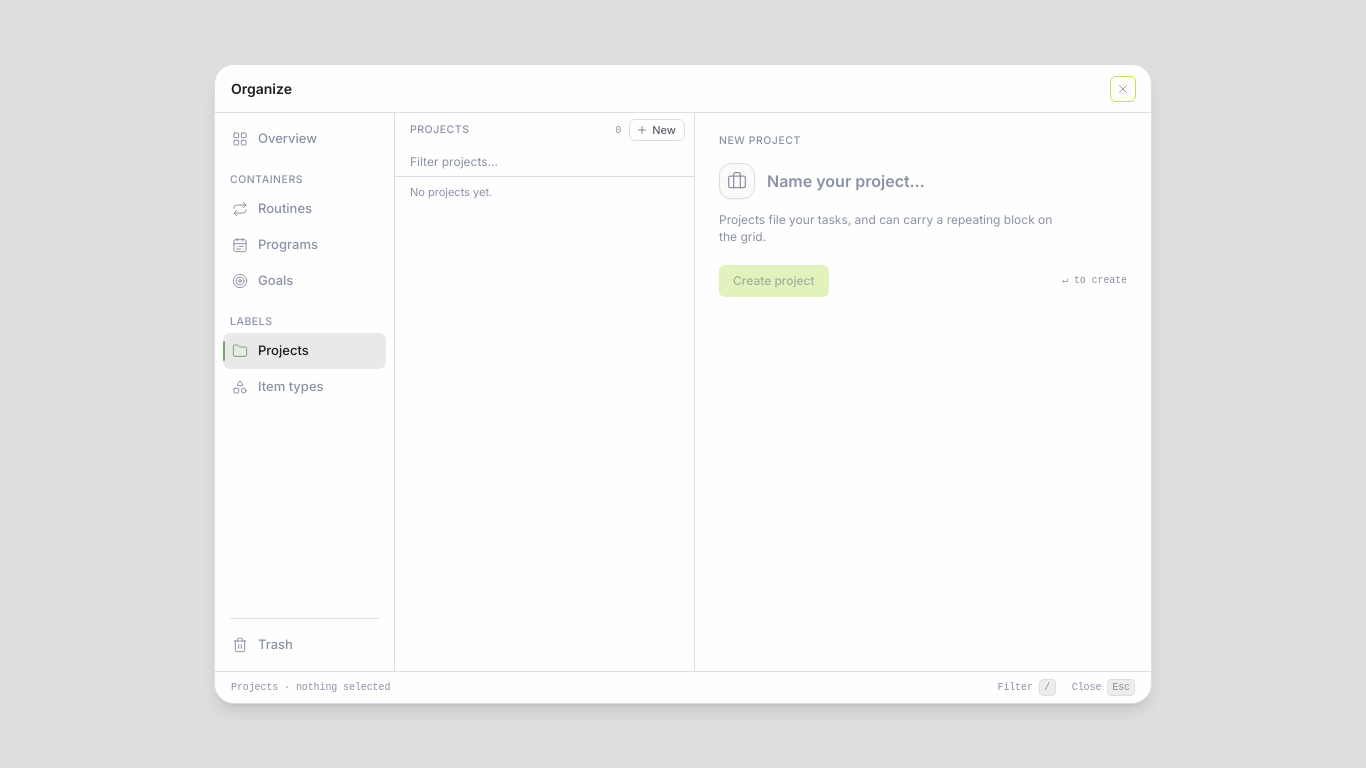
it: the trashed-name guard does not go stale mid-session › lets the user retry a name whose create the database refused
The width and height of the screenshot is (1366, 768).
Type "Work" into the field with test id "project-new-name" at (947, 181), box [763, 168, 1131, 194]
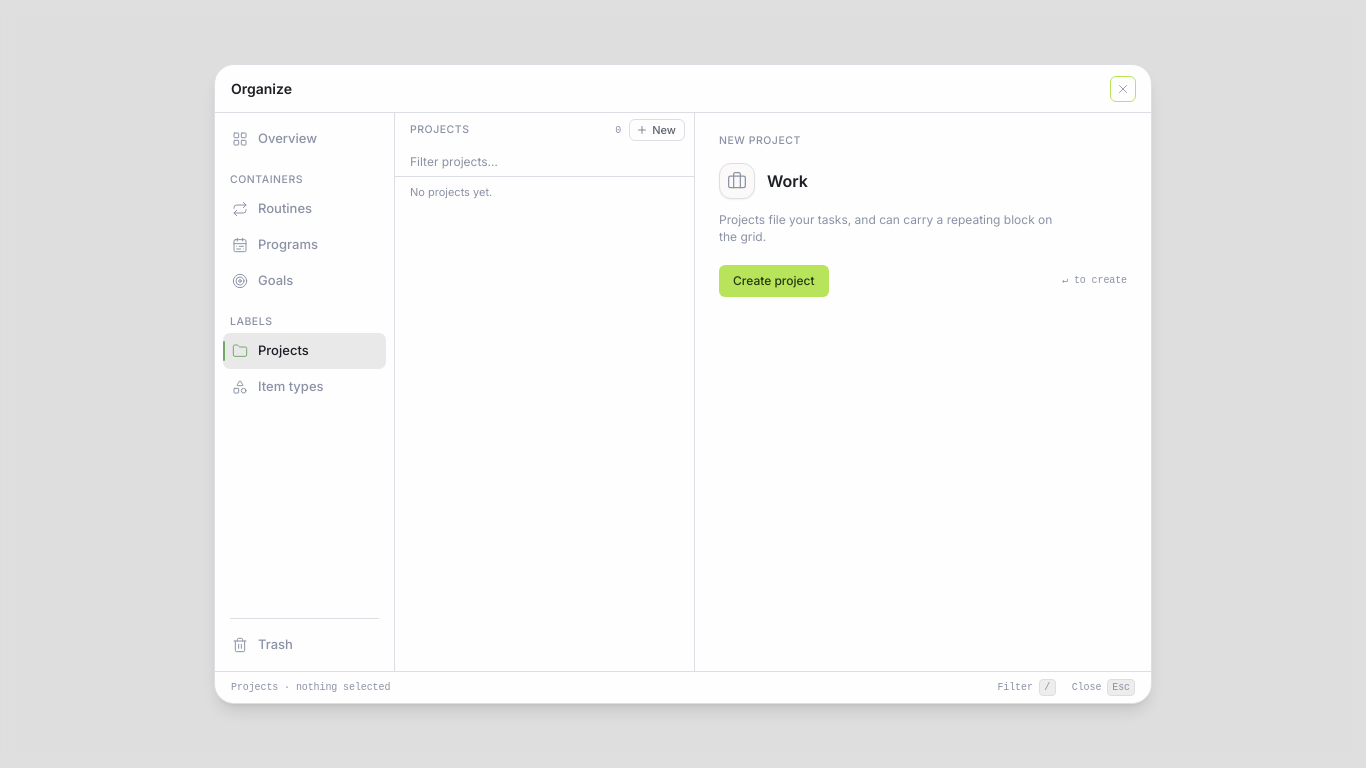
Click the button with test id "project-add" at (774, 281), box [719, 265, 829, 297]
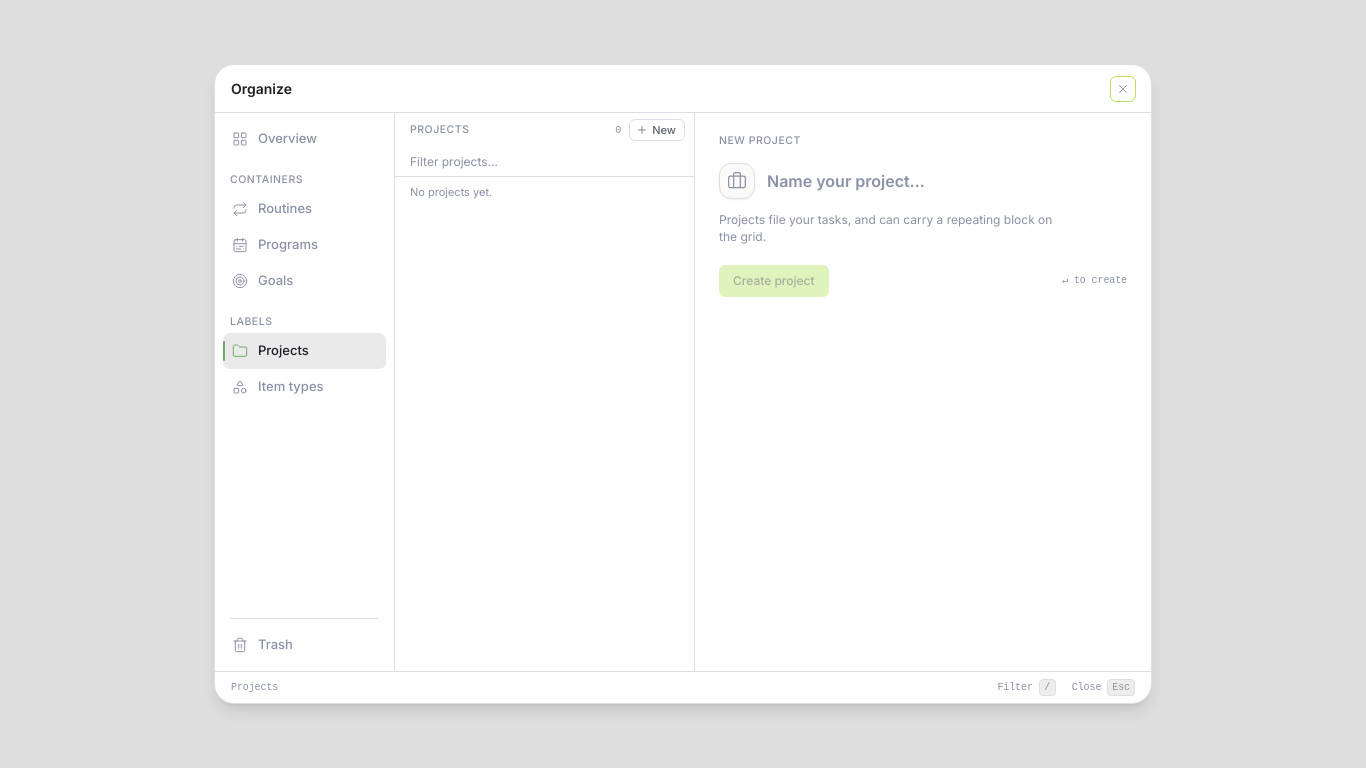
Type "Work" into the field with test id "project-new-name" at (947, 181), box [763, 168, 1131, 194]
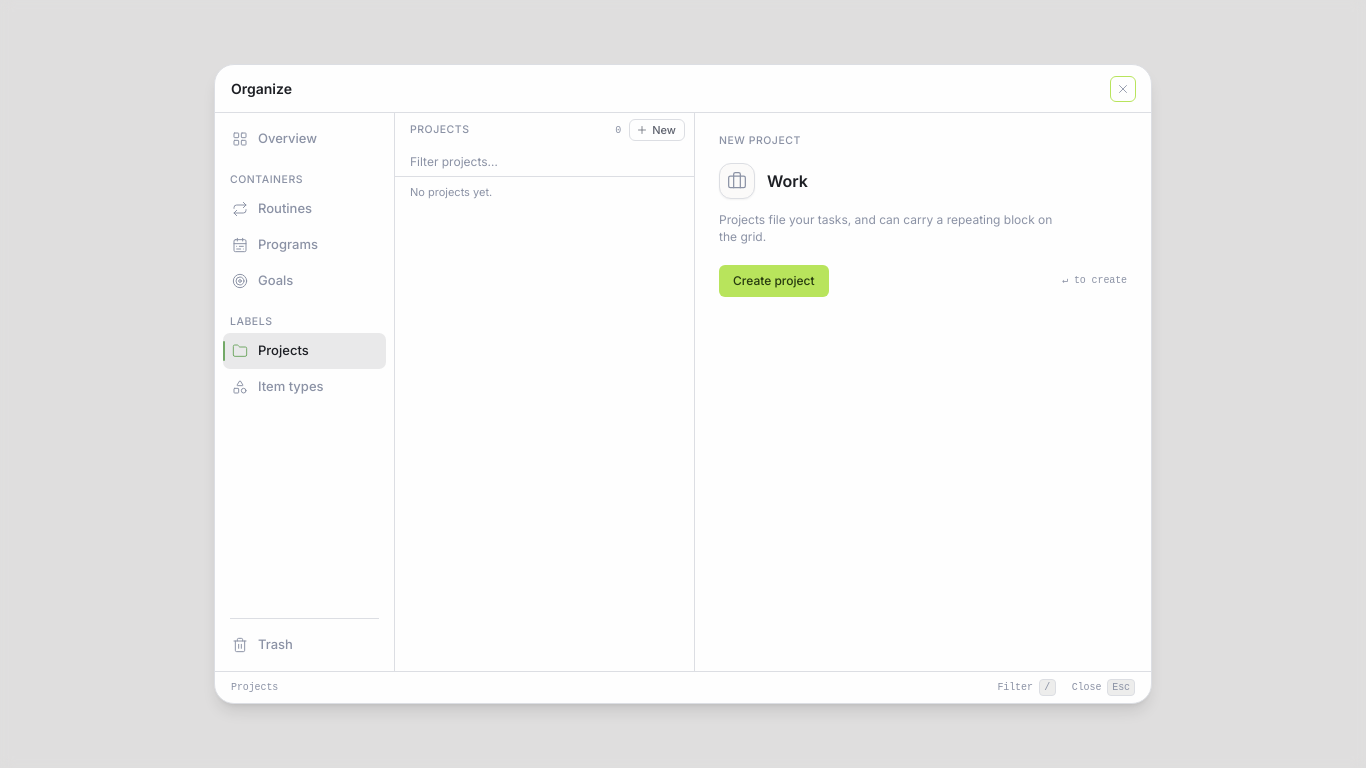
expect the button with test id "project-add" is enabled: met, box [719, 265, 829, 297]
